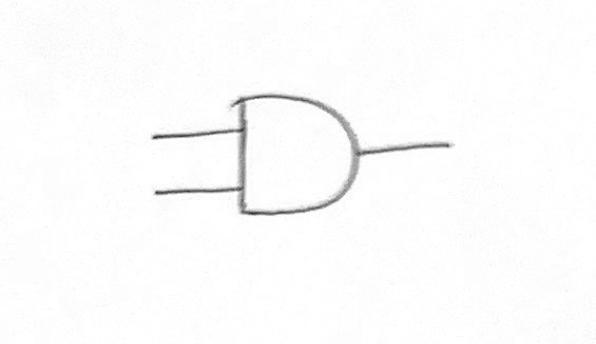AND: (227, 83, 386, 232)
